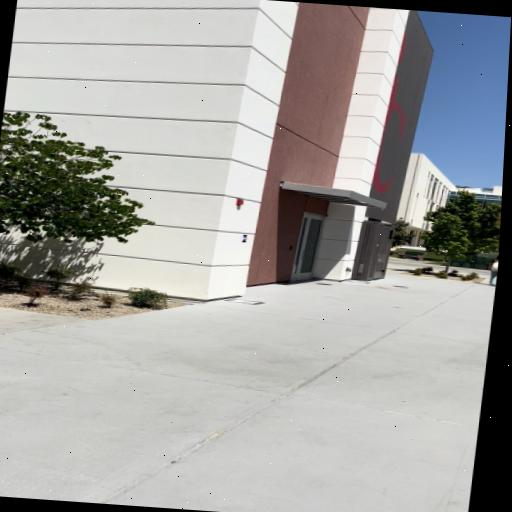target6: (241, 235, 248, 243)
